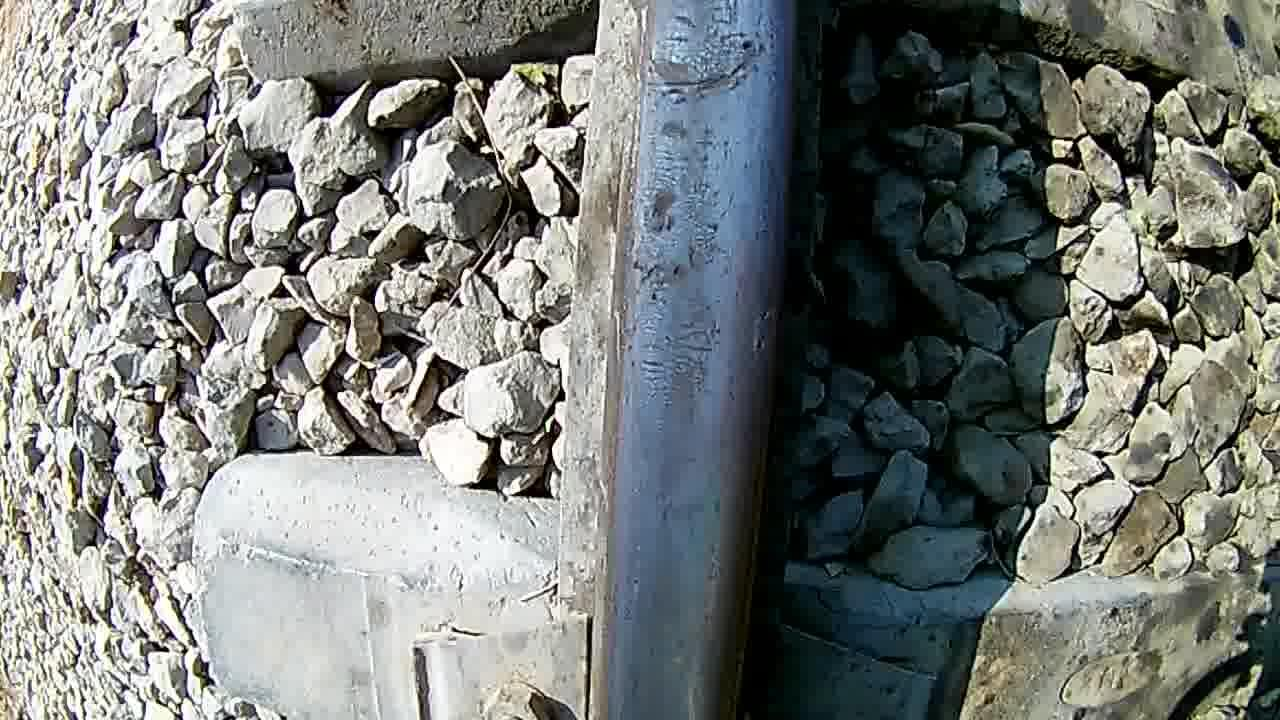crack: (580, 1, 787, 720)
